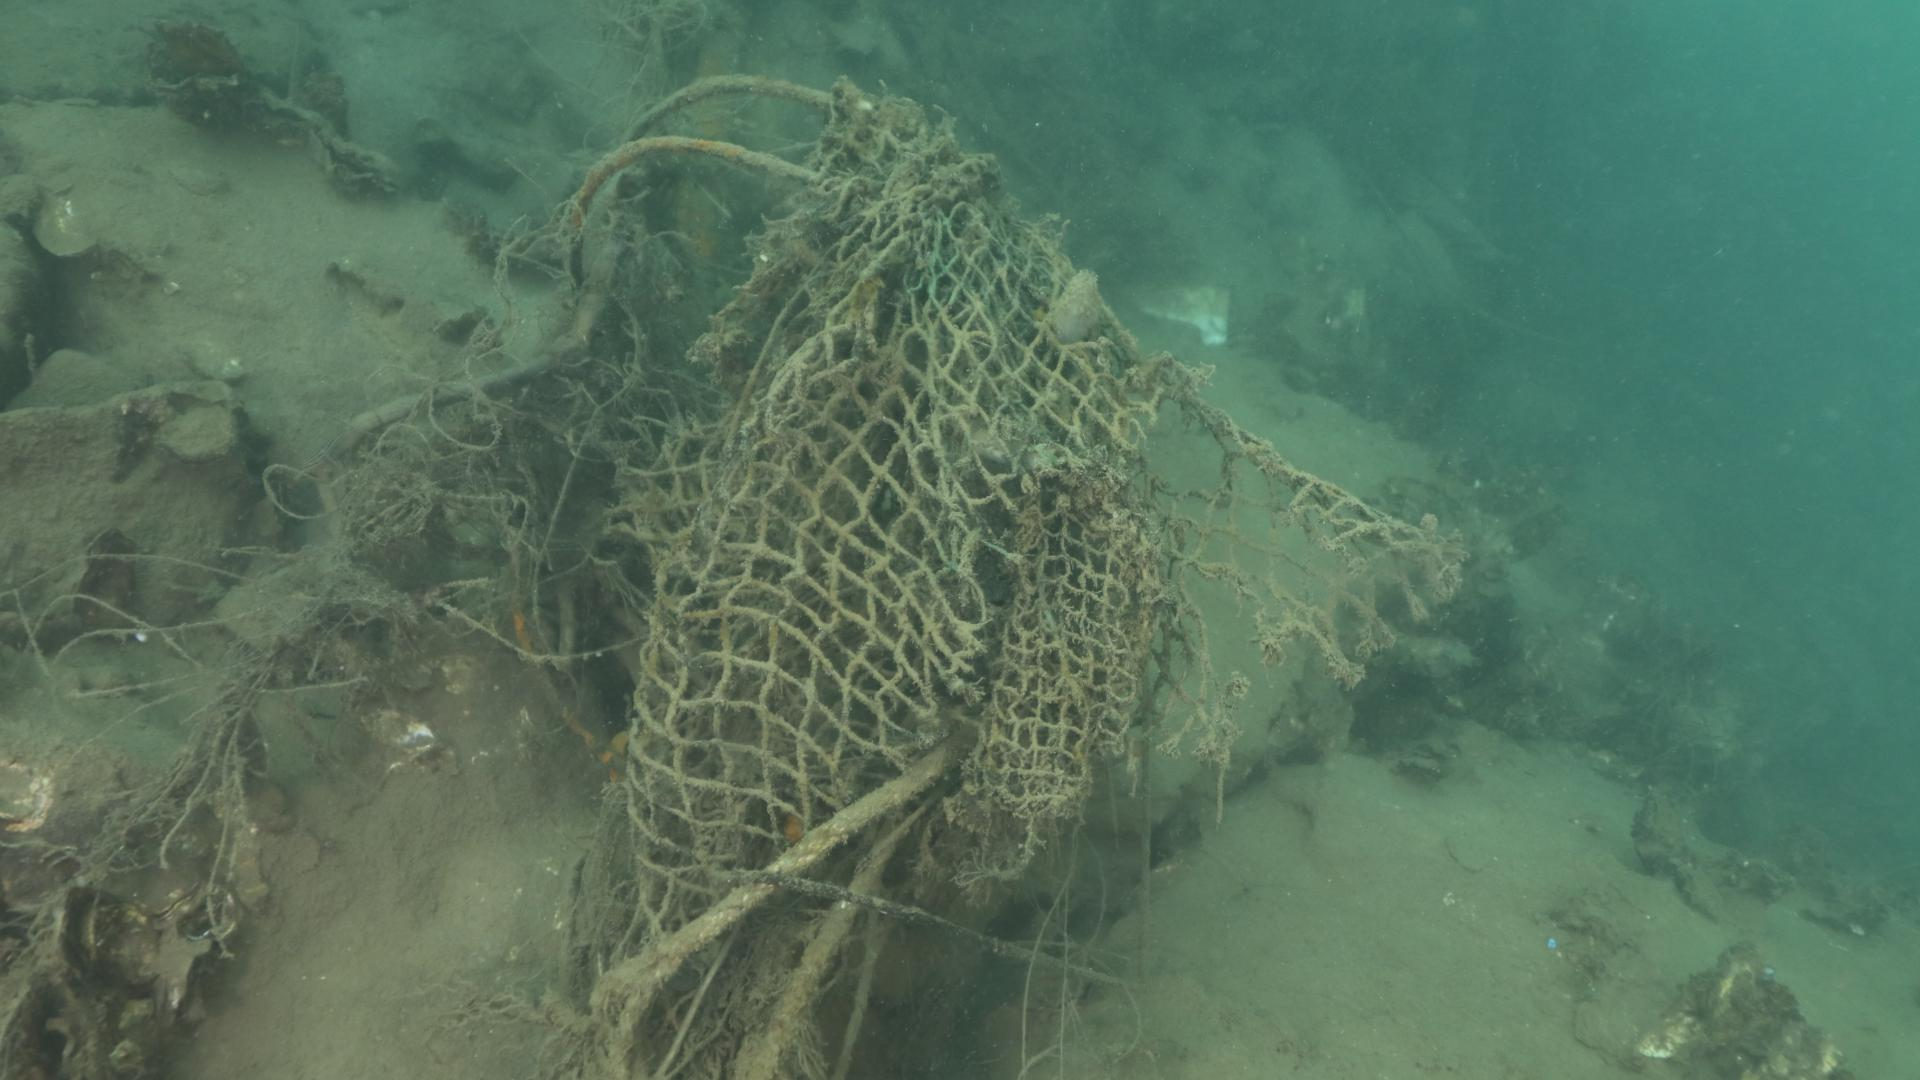fish net: (618, 117, 1414, 968)
